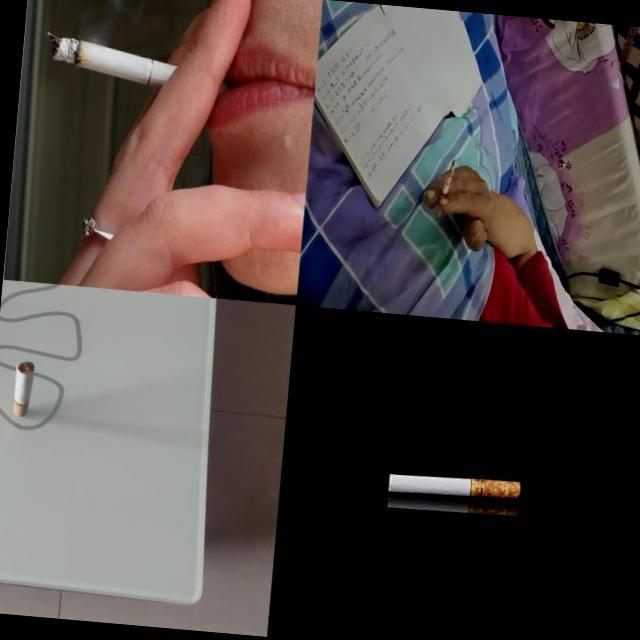smoke: (41, 31, 232, 101), (386, 470, 524, 504), (386, 490, 520, 520), (12, 360, 36, 418), (434, 158, 456, 220)
